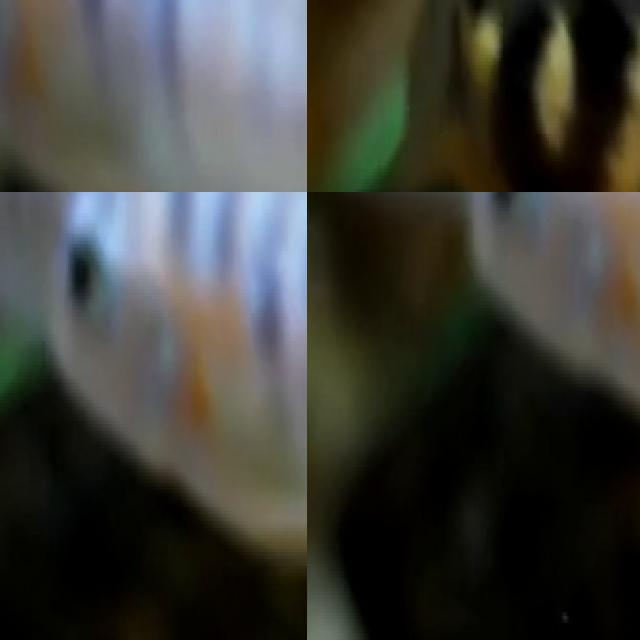fish: (0, 0, 307, 192), (0, 192, 75, 344)
